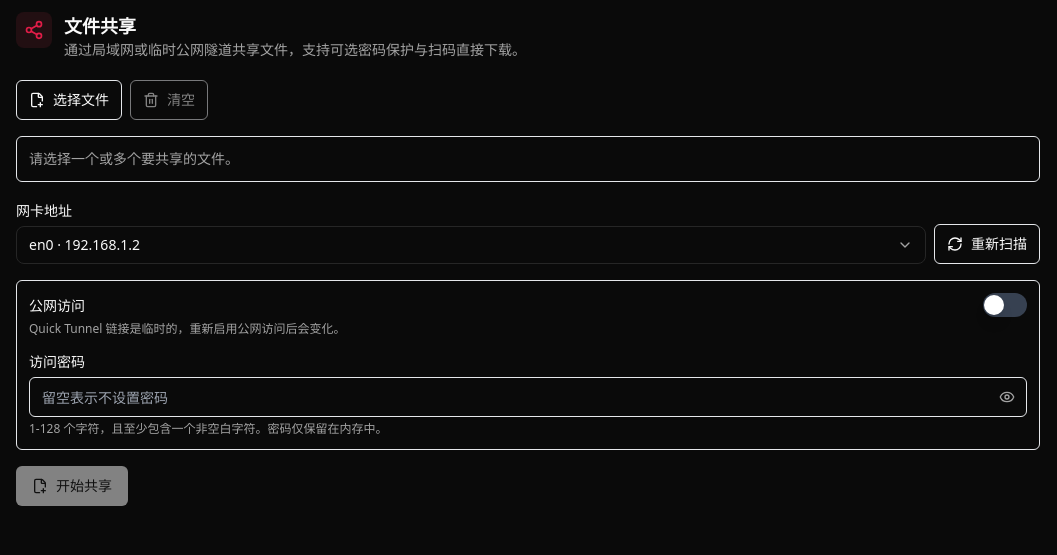
FileSharingTool public tunnel (RED) › shows the dependency banner when cloudflared is missing and disables start only while public is on
Step 1. Click the button "选择文件" → (69, 100), box [16,80,122,120]
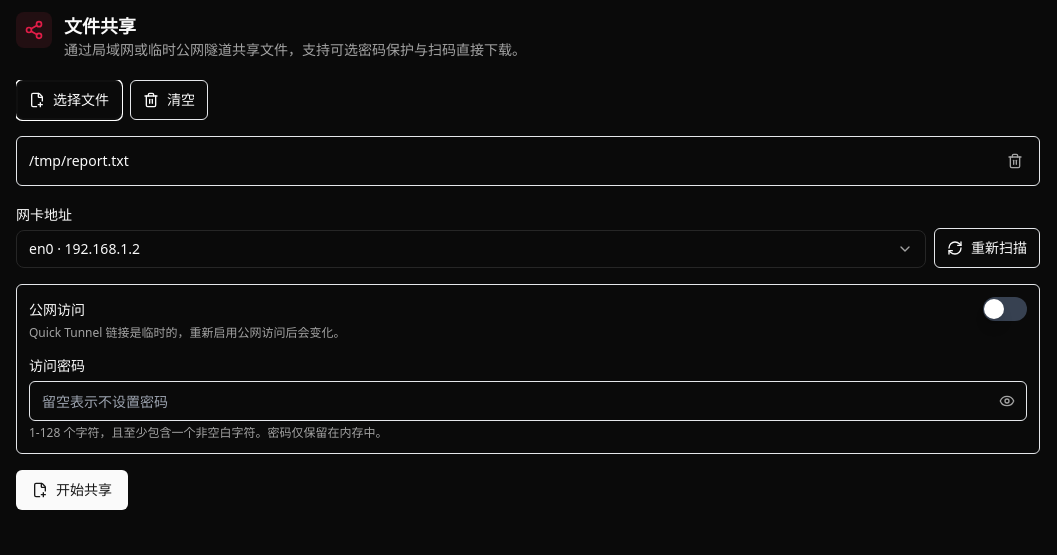
Result: the button "开始共享" is enabled at [16,470,128,510]
# enable public
Step 2. Click the switch with test id "file-sharing-public-toggle" → (1005, 309), box [983,297,1027,321]
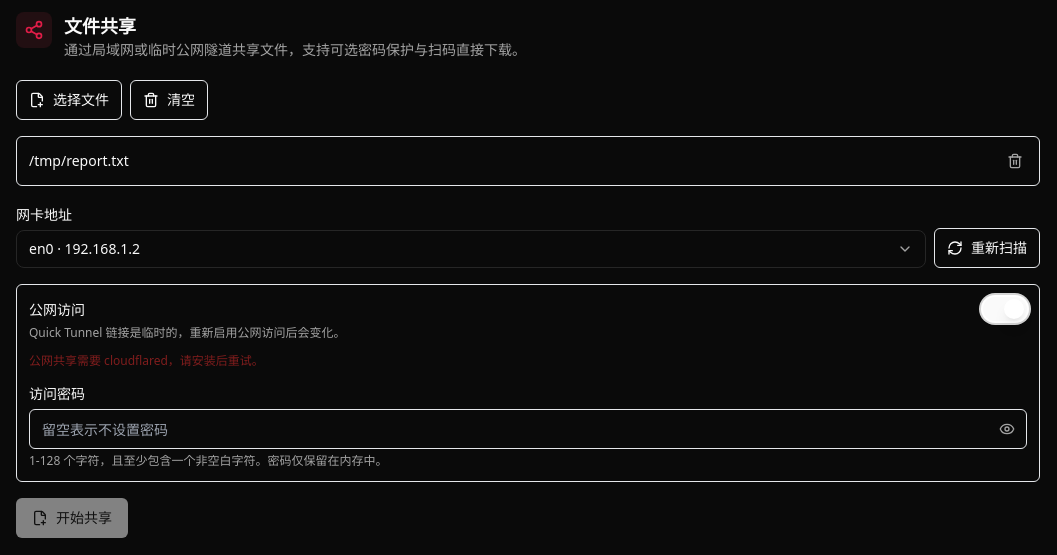
Result: the text "公网共享需要 cloudflared，请安装后重试。" is shown at [29,352,264,369]
Result: the button "开始共享" is disabled at [16,498,128,538]
